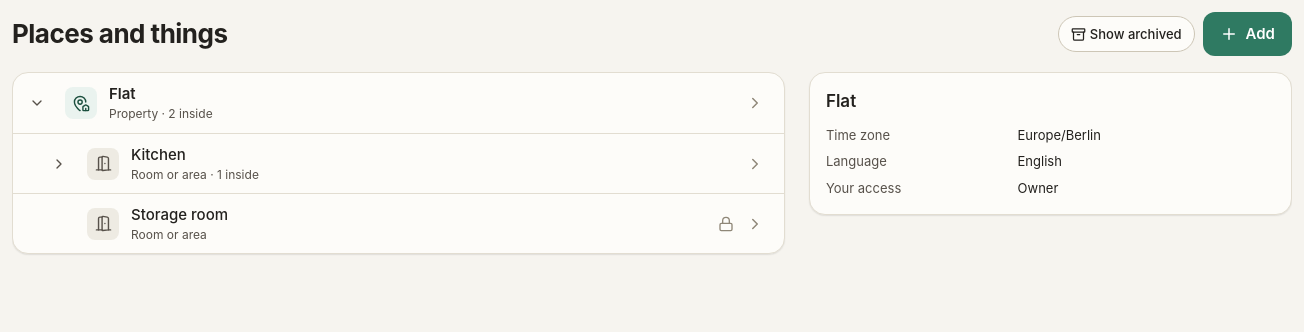
PlacesPage › opens the properties and loads the contents of a place when it is expanded
The width and height of the screenshot is (1304, 332).
Check: the link "Kitchen Room or area · 1 inside" is shown, box [79, 140, 772, 188]
Check: the picture named "Private" is shown, box [718, 216, 734, 232]
Click the button named "Show what is inside Kitchen" at x=59, y=164, box [43, 148, 75, 180]
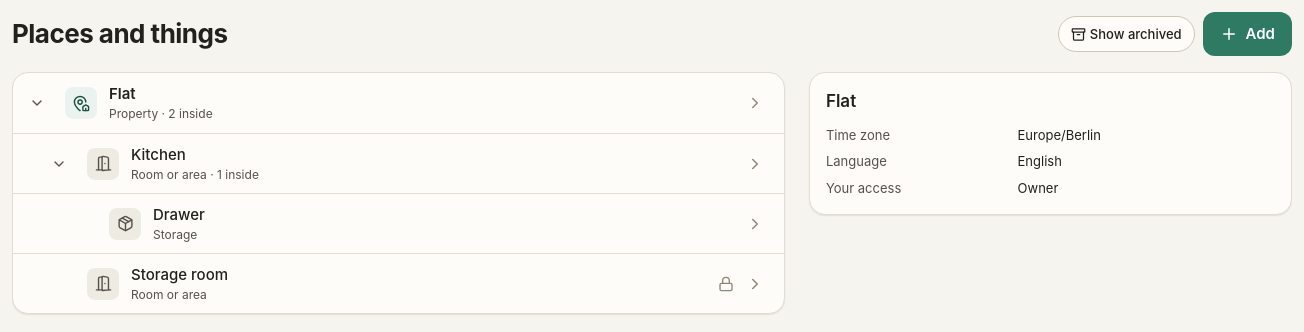
Check: the link "Drawer Storage" is shown, box [101, 200, 772, 248]
Check: the button named "Hide what is inside Kitchen" is expanded, box [43, 148, 75, 180]
